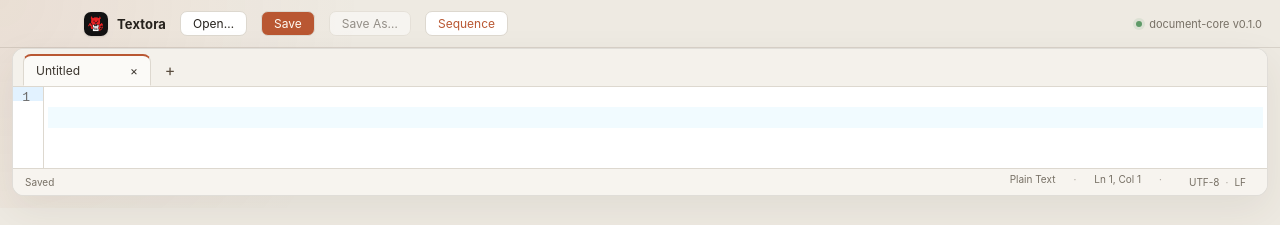
Test case: App tab session › binds an external conflict to a dirty background tab
Step 1. Click the button with class "open-button" → (214,24), box [180, 11, 247, 36]
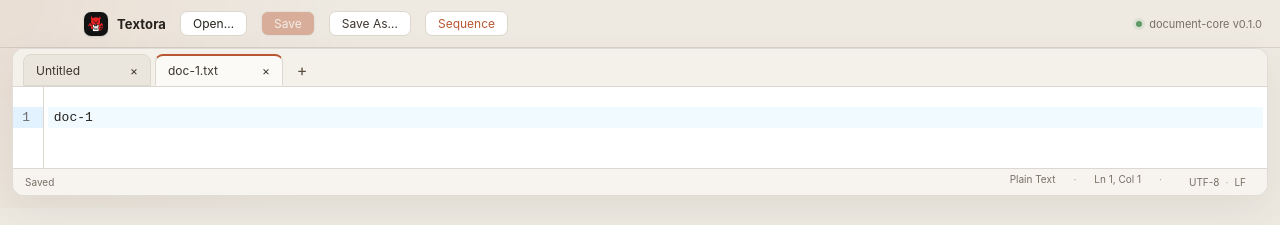
Step 2. Click the button with class "open-button" → (214,24), box [180, 11, 247, 36]
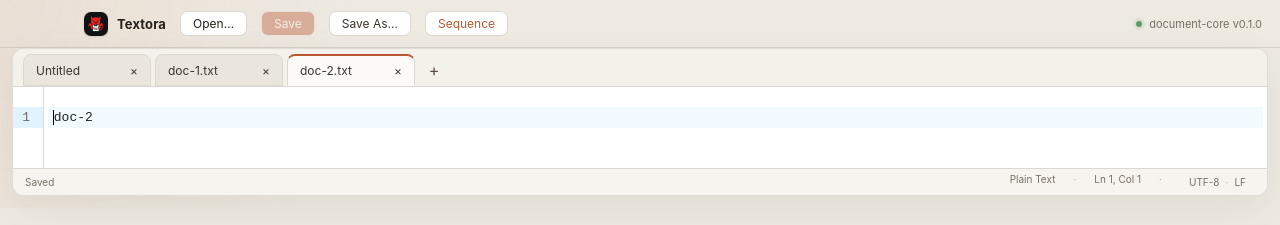
Step 3. Click the button with class "document-tab-select" showing "doc-1.txt" → (204,70), box [156, 55, 253, 85]
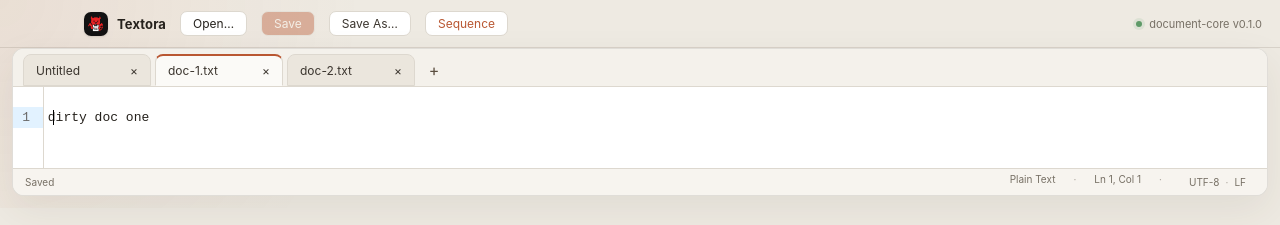
Step 4. Clear the field with class "cm-content" → (98,118), box [48, 110, 149, 125]
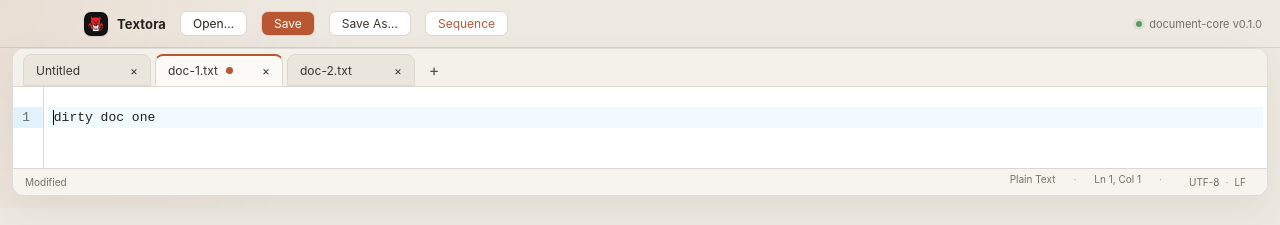
Step 5. Click the button with class "document-tab-select" showing "doc-2.txt" → (336,70), box [288, 55, 385, 85]
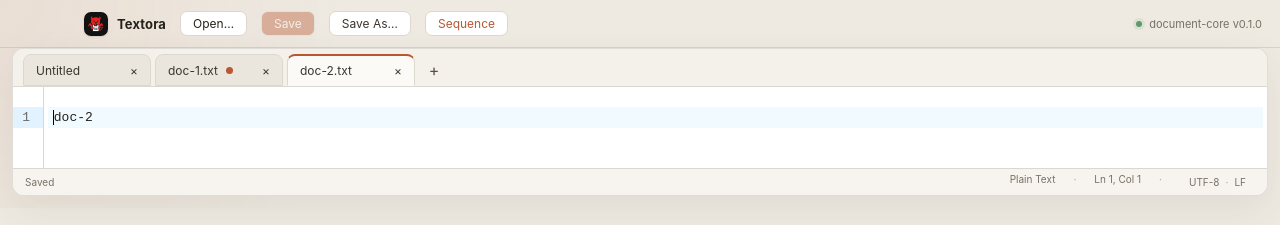
Expected: the element with class "is-active" shows "doc-2.txt", [288, 56, 385, 85]
Step 6. Click the button with class "document-tab-select" showing "doc-1.txt" → (204,70), box [156, 55, 253, 85]
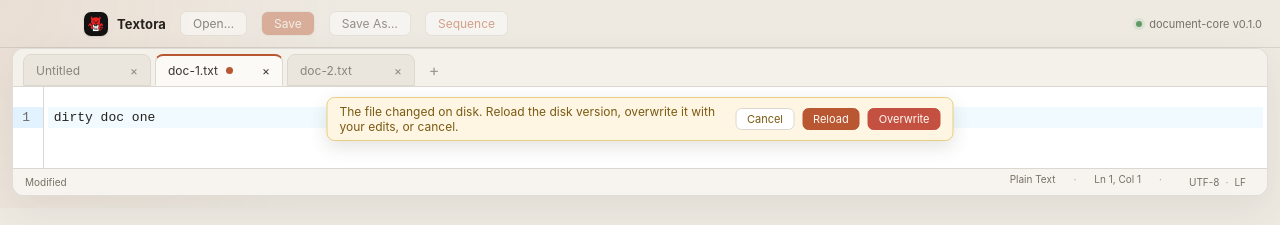
Expected: the message with class "notice-conflict" is shown, [326, 97, 954, 141]
